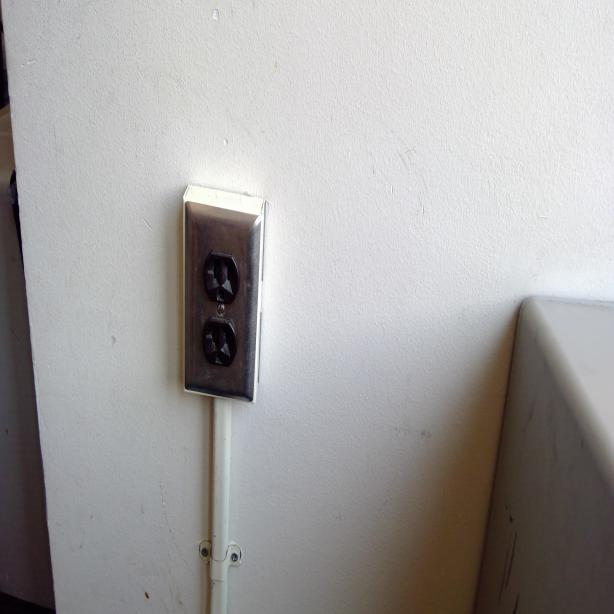typeb: (201, 253, 237, 306), (204, 322, 235, 371)
